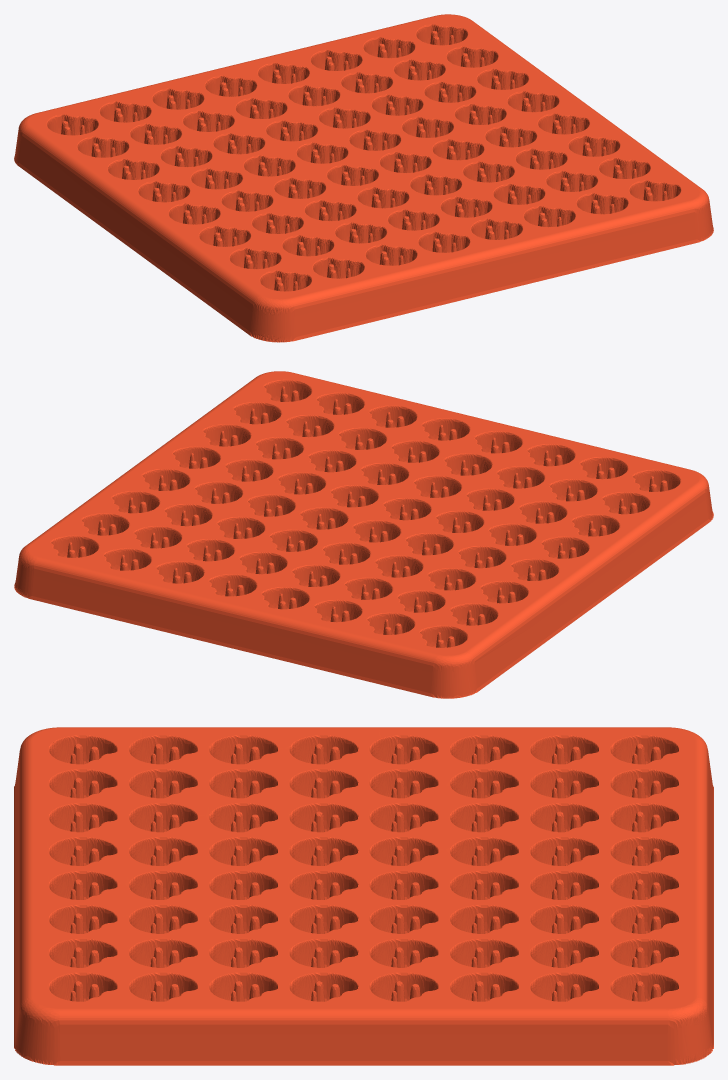
Rendered from mold.glb.
3 views of the same model, one above another, from view 1: azimuth 30°, elevation 25°; view 2: azimuth 150°, elevation 25°; view 3: azimuth 270°, elevation 25° (orthographic). The views are drawn at different scales.
Visible parts, largest first — view 1: geometry_0; view 2: geometry_0; view 3: geometry_0.
Boxes of the visible parts, bbox=[...] form: geometry_0: bbox=[14, 14, 713, 342]; geometry_0: bbox=[14, 371, 713, 698]; geometry_0: bbox=[14, 727, 713, 1065].
Bounding box in the file's own units: 0.1355 × 0.0105 × 0.1355.
